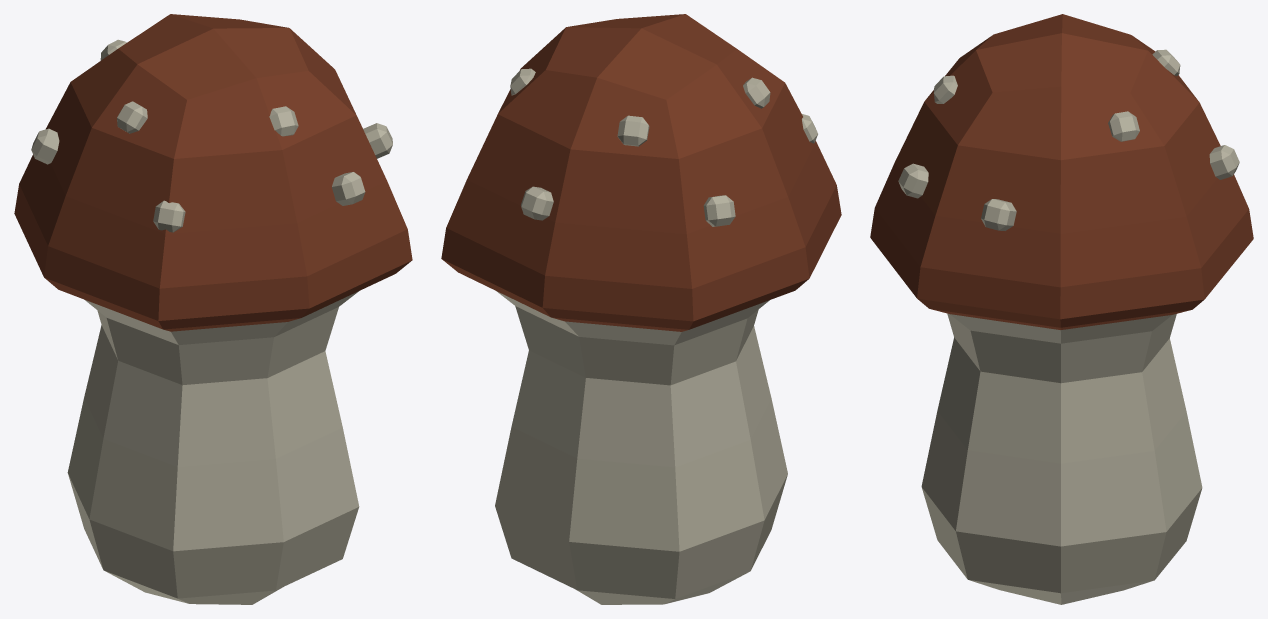
The model's file is Mushroom_2.glb.
The picture shows the model from 3 angles, left to right: view 1: azimuth 30°, elevation 25°; view 2: azimuth 150°, elevation 25°; view 3: azimuth 270°, elevation 25°; orthographic projection.
Parts seen in each view (by area): view 1: Mushroom_2; view 2: Mushroom_2; view 3: Mushroom_2.
Boxes of the visible parts, left/top/right/bottom form: Mushroom_2: left=14, top=14, right=412, bottom=604; Mushroom_2: left=441, top=14, right=841, bottom=604; Mushroom_2: left=870, top=14, right=1253, bottom=604.
Size of the model in its own units: 0.1415 by 0.2237 by 0.1415.
